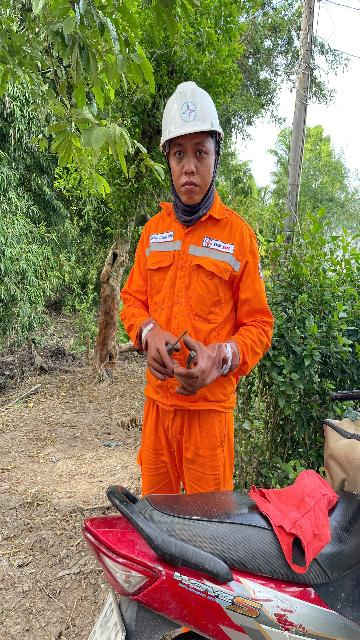gloves: (163, 332, 248, 397), (122, 315, 176, 382)
helmet: (153, 82, 231, 141)
